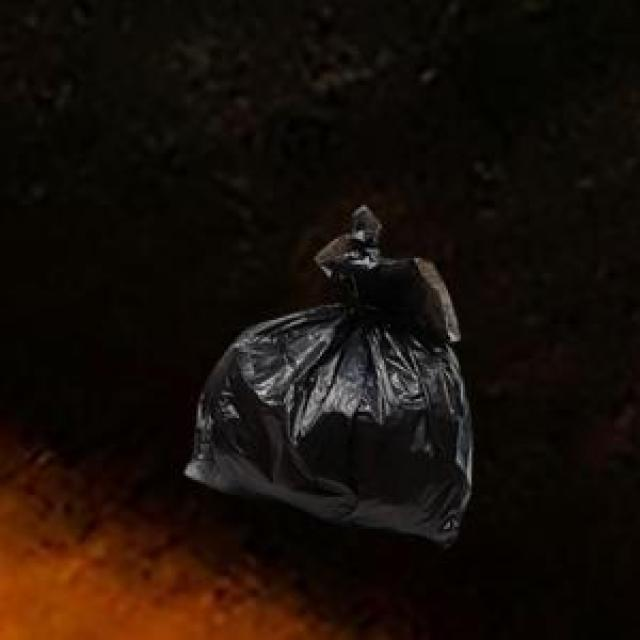Vinyl: (185, 205, 472, 544)
